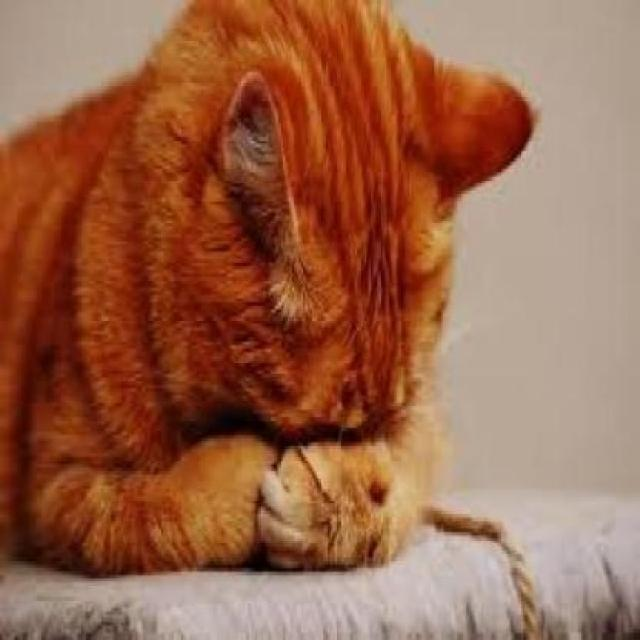cat: (9, 0, 536, 562)
